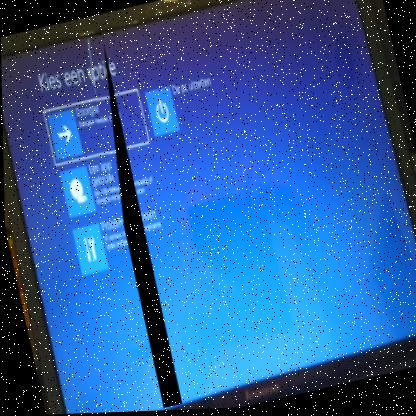lines: (82, 30, 181, 412)
